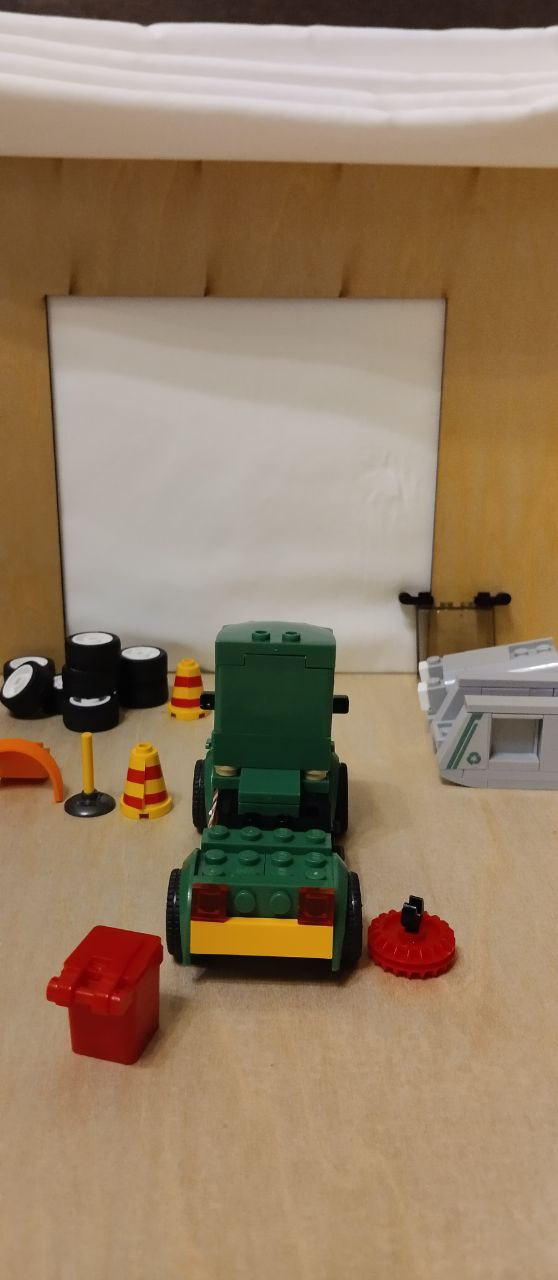Cone: (120, 740, 175, 820), (165, 657, 210, 728)
Object Red: (49, 918, 172, 1066)
Truck: (164, 617, 372, 992)
